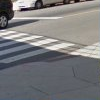crosswalk: (0, 28, 75, 65)
